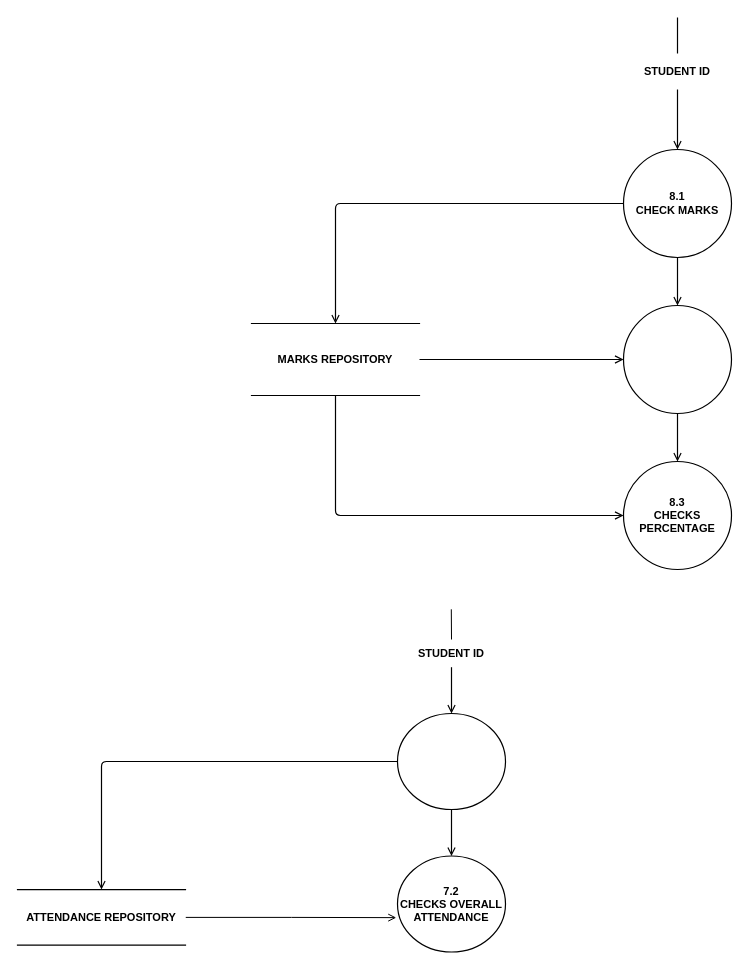
This 750x970 diagram has some shape labels left out. The centre of each missing label's shape, as x and y in pixels:
7.1 CHECK SUBWISE ATTENDANCE: [451,761]
8.2 CHECKS TOTAL: [677,359]
